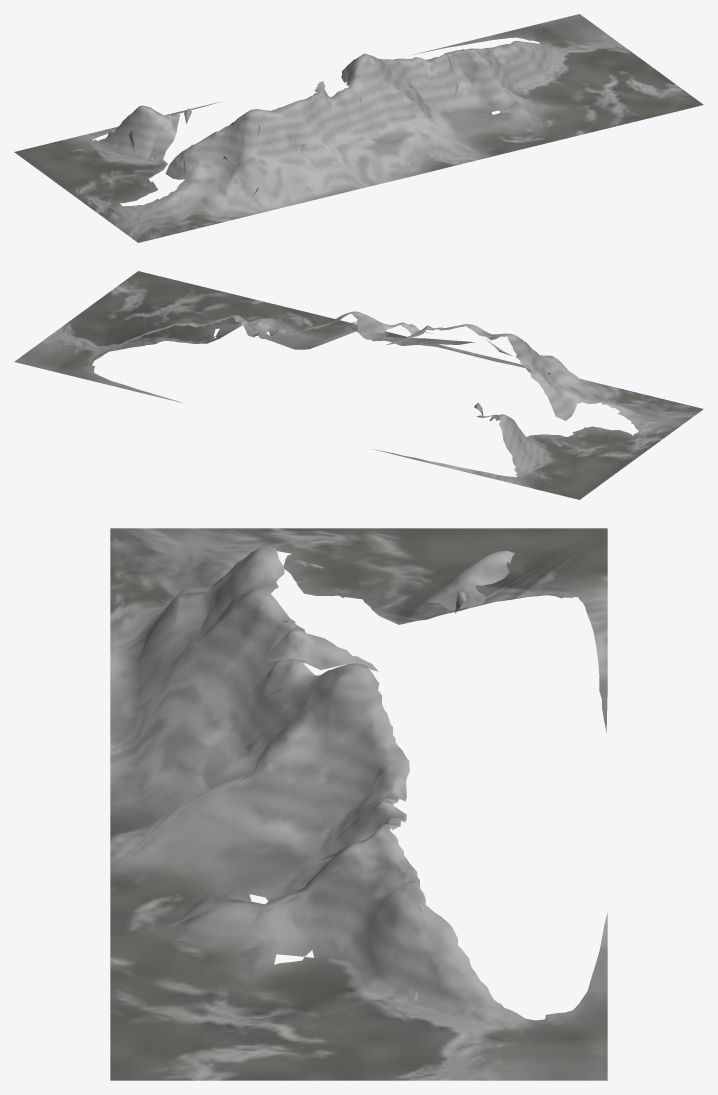
The model's file is mountain-spine-balanced.glb.
The picture shows the model from 3 angles, top to bottom: view 1: azimuth 30°, elevation 25°; view 2: azimuth 150°, elevation 25°; view 3: azimuth 270°, elevation 25°; orthographic projection. The views are drawn at different scales.
Parts seen in each view (by area): view 1: mountain-spine-balanced; view 2: mountain-spine-balanced; view 3: mountain-spine-balanced.
Boxes of the visible parts, x1,y1,x2,y2 form: mountain-spine-balanced: (14,14,703,242); mountain-spine-balanced: (14,271,703,499); mountain-spine-balanced: (110,528,607,1080).
Bounding box in the file's own units: 2 × 0.2452 × 0.7609.
Materials: 1 (1 with a texture image).
